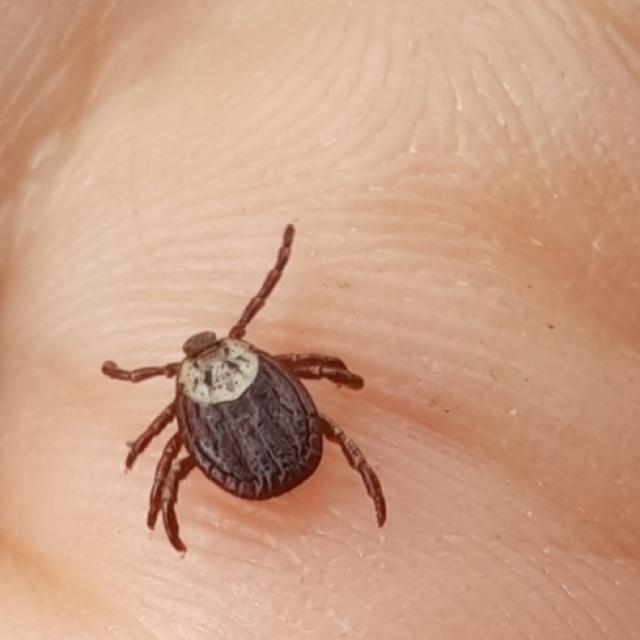Dermacentor Reticulatus-F: (101, 224, 387, 554)
